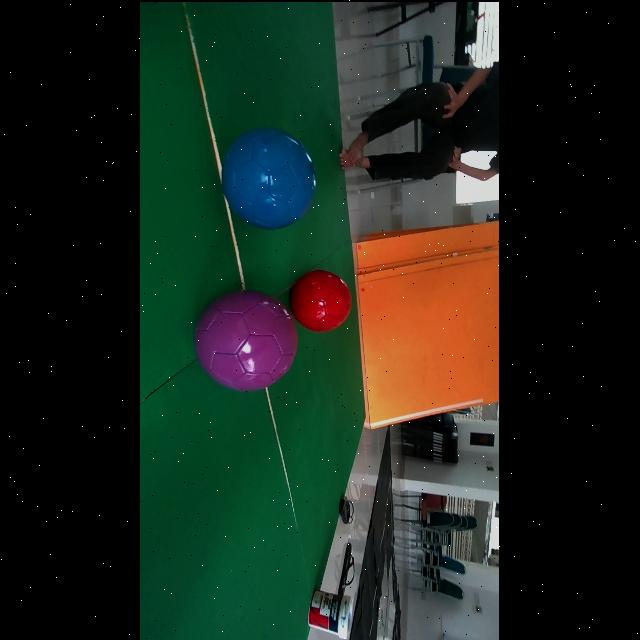B: (224, 125, 317, 228)
P: (195, 288, 298, 390)
R: (290, 268, 352, 331)
